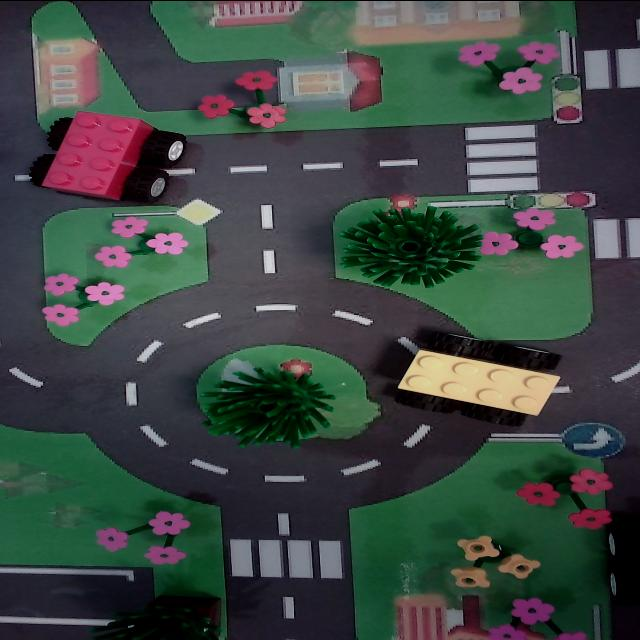Car: (387, 329, 566, 432), (20, 109, 198, 201)
Flower: (513, 462, 622, 533), (473, 203, 588, 270), (186, 68, 300, 133), (438, 530, 546, 592), (454, 32, 556, 96), (90, 212, 196, 272), (93, 506, 197, 566), (35, 268, 131, 324), (488, 598, 594, 640)
Tree: (188, 363, 342, 449), (337, 206, 489, 288), (88, 583, 246, 640)
